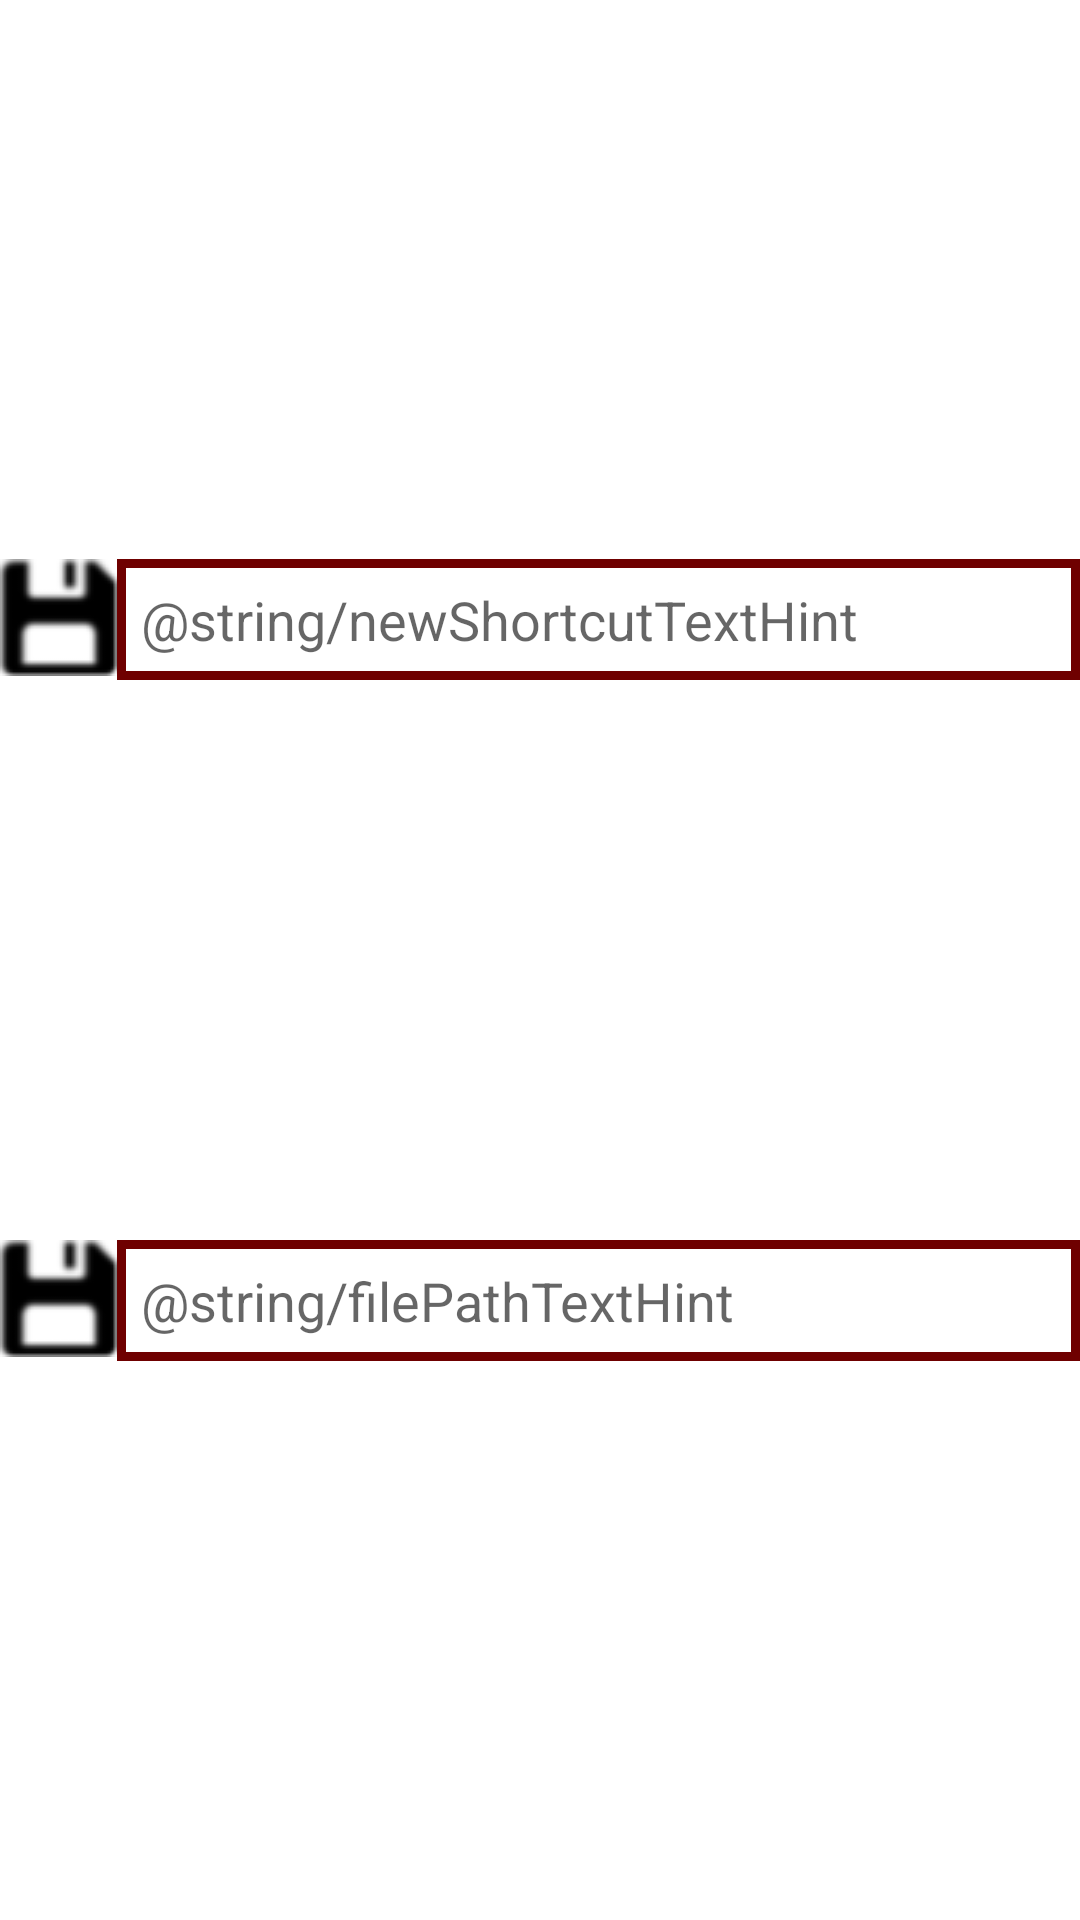

Where icons sit on this 1080 × 1920 app screen, as (x1, y1, x2, y2):
save: (0, 559, 117, 676), (0, 1240, 117, 1357)
